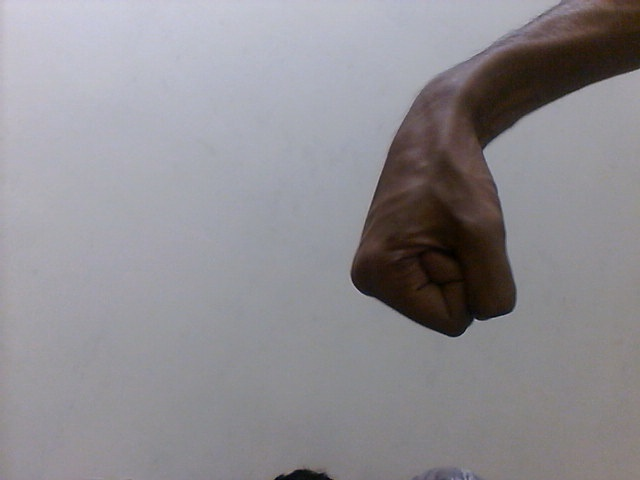hand: (346, 95, 519, 339)
